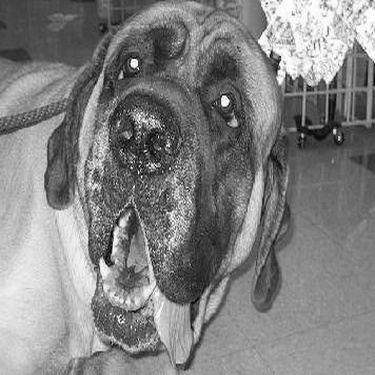dog: (3, 1, 299, 373)
